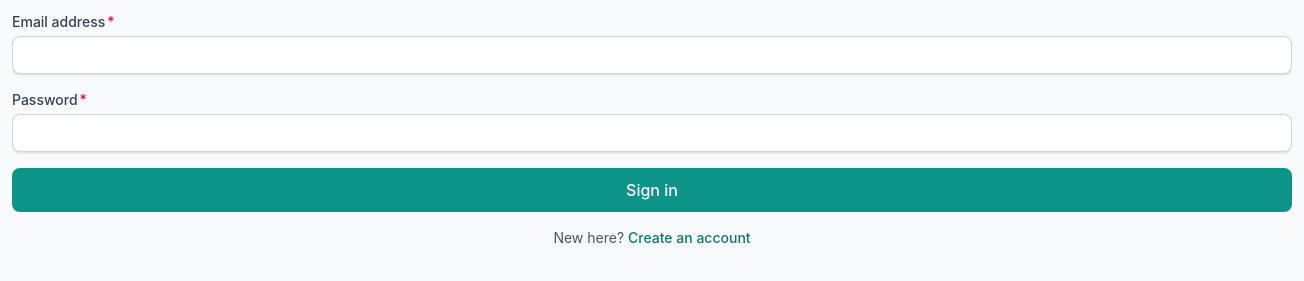
Test: LoginForm › rejects a malformed email without a request
Type "not-an-email" into the field labelled "Email address*". click: point(652, 55)
box: top-left (12, 36), bottom-right (1292, 74)
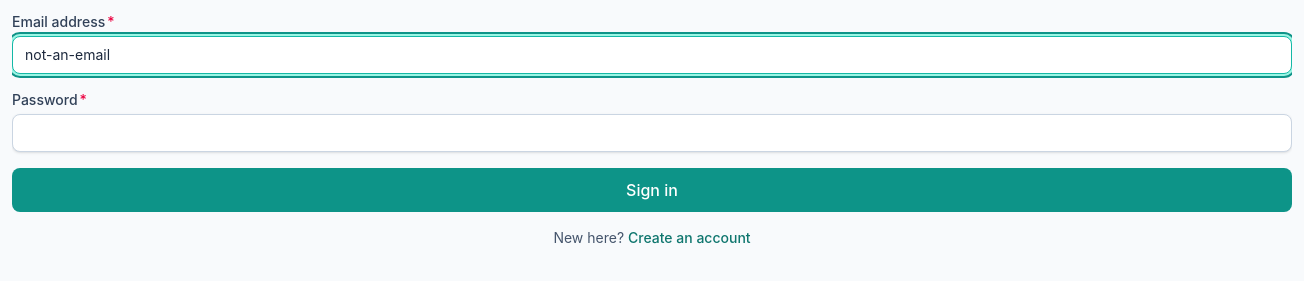
Type "a-real-password" into the password field labelled "Password*". click: point(652, 133)
box: top-left (12, 114), bottom-right (1292, 152)
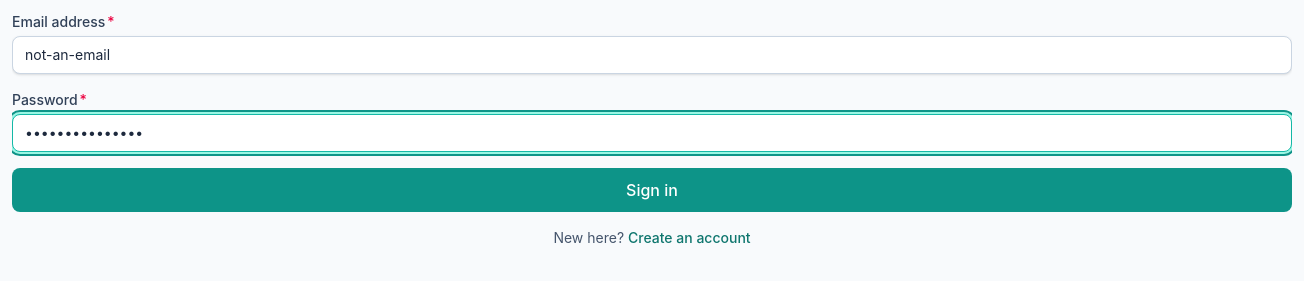
Click the button "Sign in". click: point(652, 190)
box: top-left (12, 168), bottom-right (1292, 212)
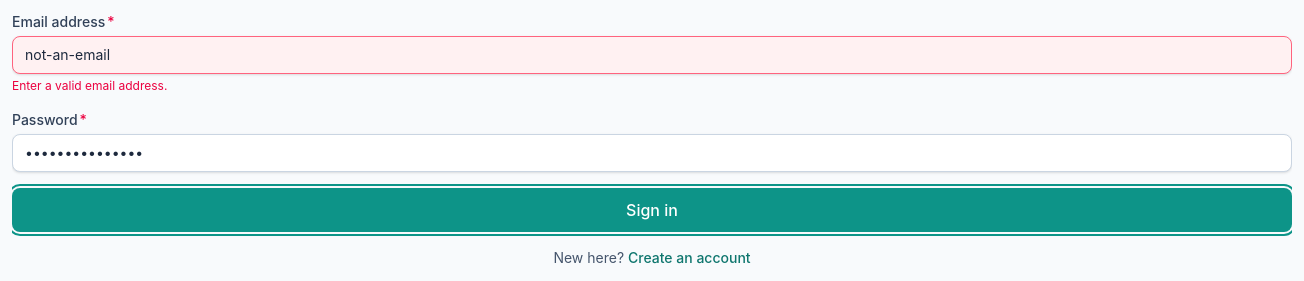
Expected: the text "Enter a valid email address." is shown, top-left (12, 78), bottom-right (167, 93)
